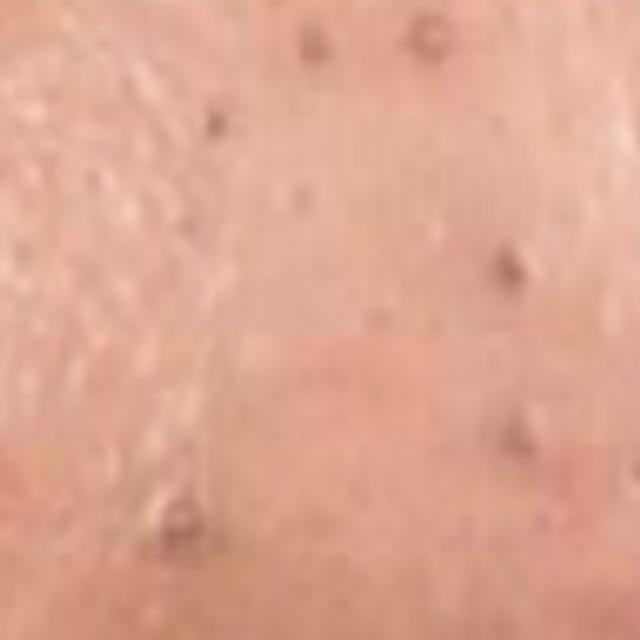blackhead: (410, 11, 457, 62), (161, 497, 205, 549), (493, 241, 535, 292), (502, 405, 539, 459), (298, 27, 336, 67), (194, 112, 226, 142)
